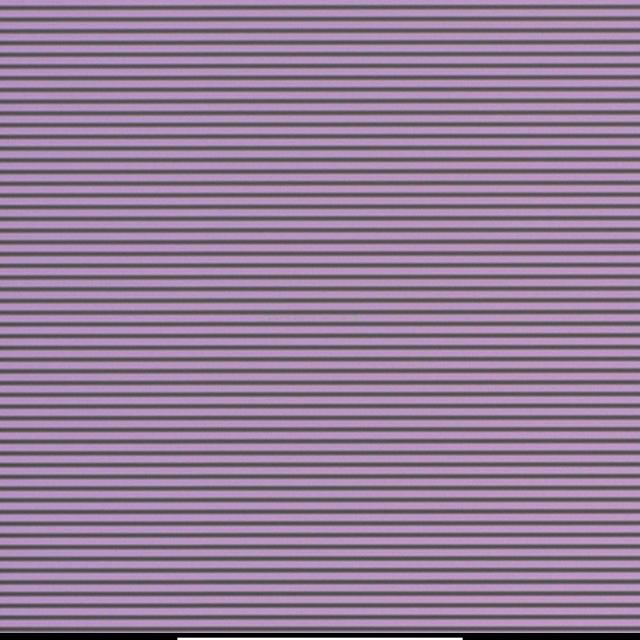nonvisual: (305, 320, 316, 331)
